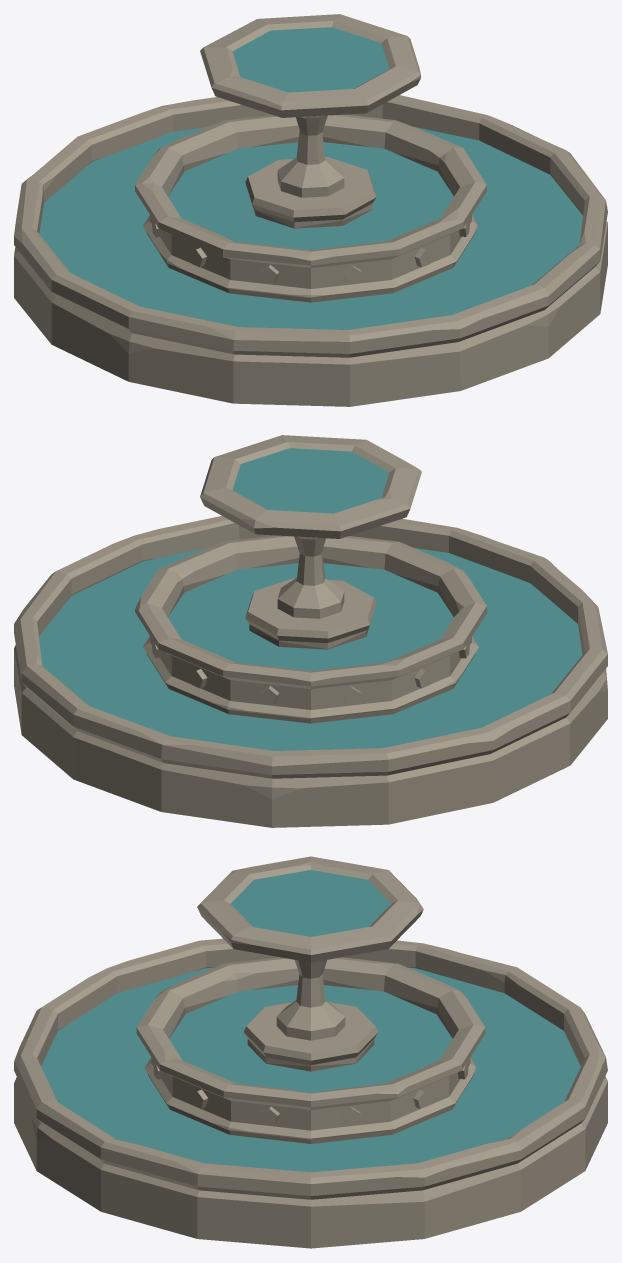
File: SM_Prop_Fountain_01.fbx
3 views of the same model, one above another, from view 1: azimuth 30°, elevation 25°; view 2: azimuth 150°, elevation 25°; view 3: azimuth 270°, elevation 25° (orthographic).
Parts seen in each view (by area): view 1: SM_Prop_Fountain_01; view 2: SM_Prop_Fountain_01; view 3: SM_Prop_Fountain_01.
Boxes of the visible parts, x1,y1,x2,y2 form: SM_Prop_Fountain_01: (14, 14, 607, 406); SM_Prop_Fountain_01: (14, 435, 607, 827); SM_Prop_Fountain_01: (14, 856, 607, 1248).
Bounding box in the file's own units: 583 × 241 × 583.
Materials: 1 (1 with a texture image).
